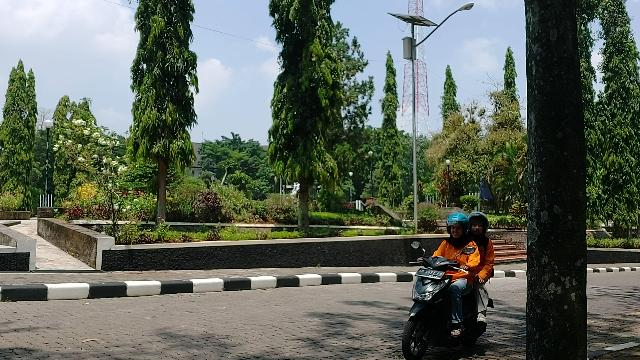helm: (447, 214, 471, 238), (469, 213, 489, 238)
motor: (404, 258, 495, 360)
